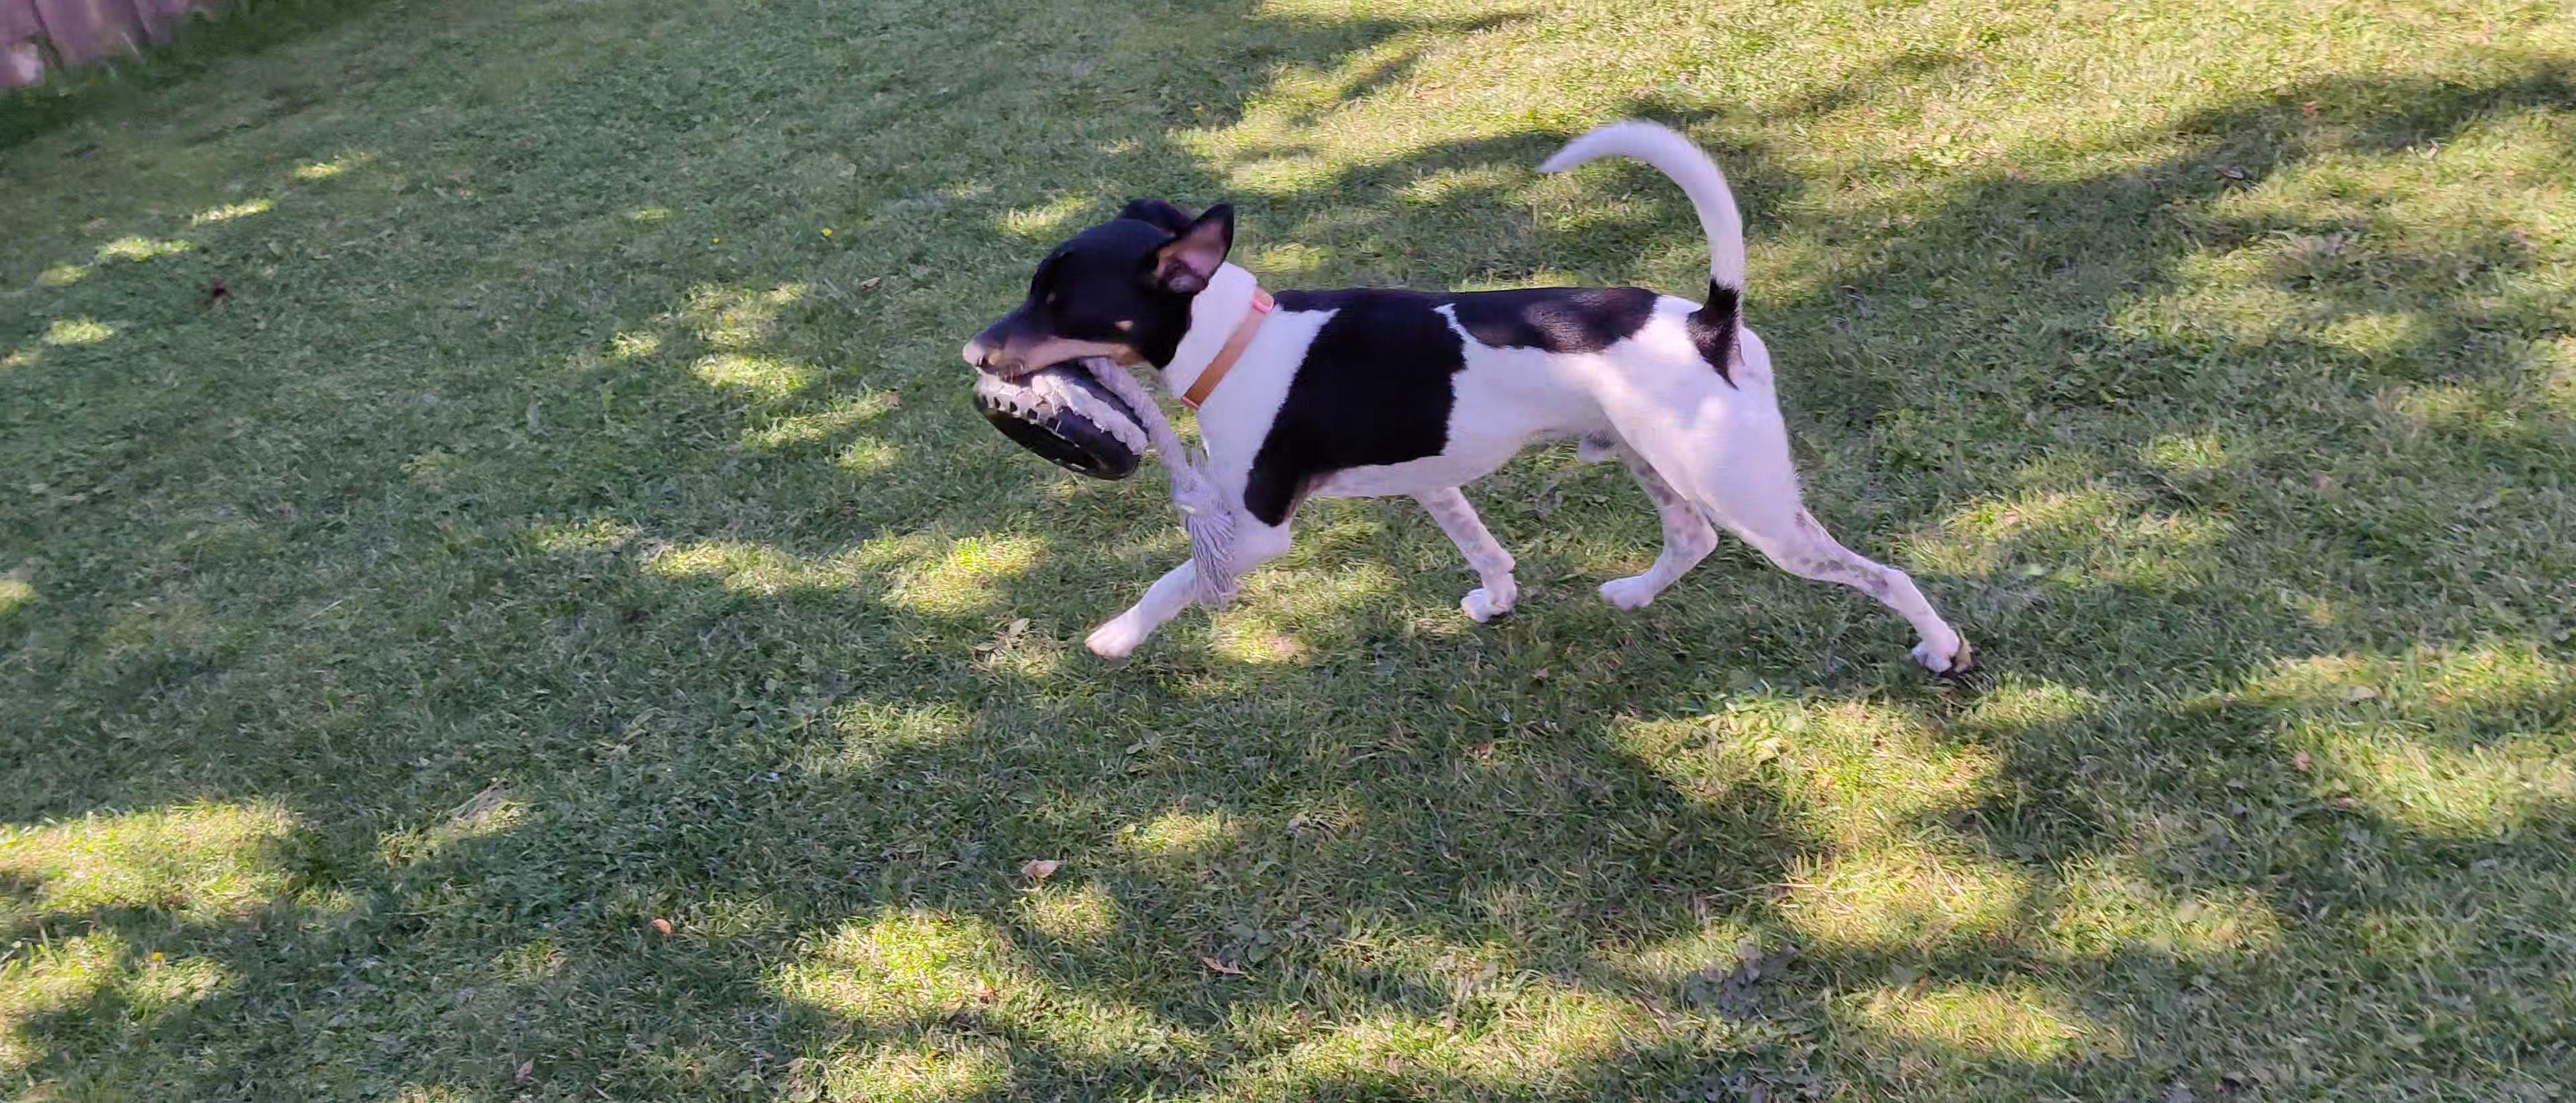Dog: (951, 110, 1983, 672)
